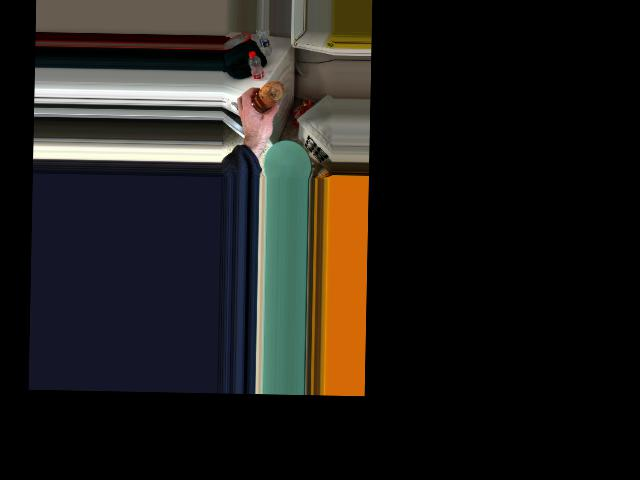sweet_potato: (253, 81, 282, 115)
